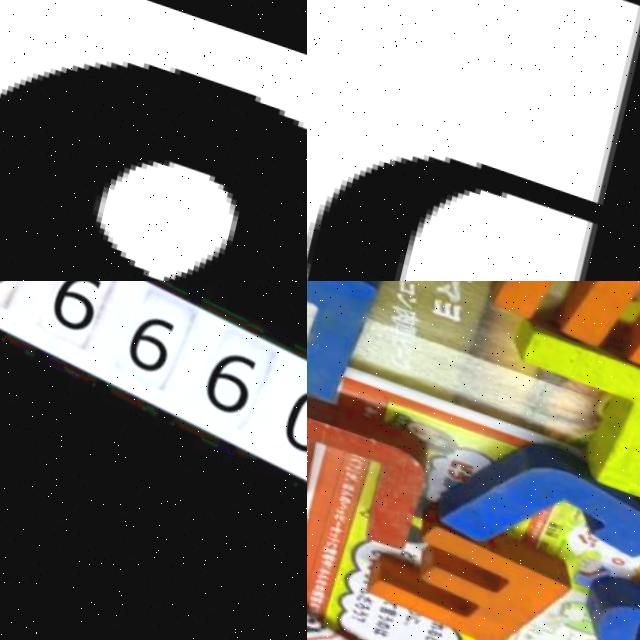0: (271, 359, 307, 470)
8: (0, 0, 307, 281)
9: (190, 320, 274, 432), (116, 288, 192, 390), (38, 281, 119, 352)
E: (365, 497, 570, 640)
J: (437, 409, 640, 584)
L: (476, 297, 640, 494)
P: (307, 0, 640, 281), (578, 530, 640, 640)
U: (307, 392, 432, 551)
V: (307, 281, 387, 410)
W: (490, 281, 640, 384)
